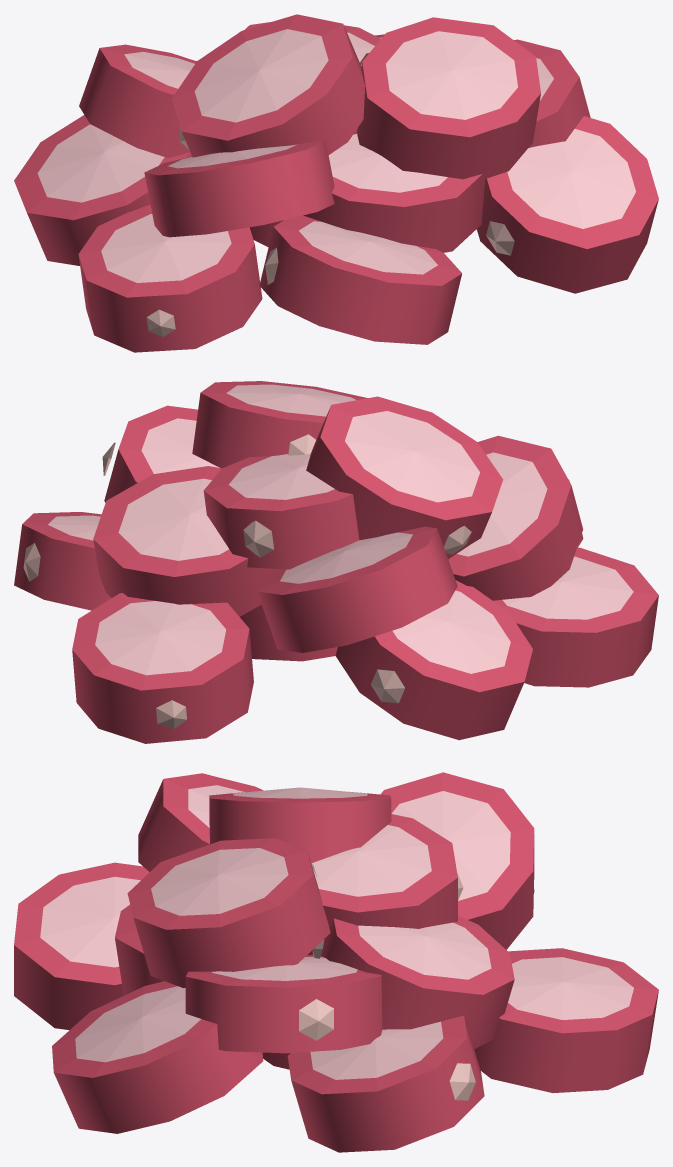
The model's file is octopus_pieces.glb.
3 views of the same model, one above another, from view 1: azimuth 30°, elevation 25°; view 2: azimuth 150°, elevation 25°; view 3: azimuth 270°, elevation 25° (orthographic). The views are drawn at different scales.
Parts seen in each view (by area): view 1: octopus_pieces_a, octopus_pieces_c, octopus_pieces_b; view 2: octopus_pieces_a, octopus_pieces_b, octopus_pieces_c; view 3: octopus_pieces_a, octopus_pieces_b, octopus_pieces_c.
Part boxes in pixels (x1,y1,x2,y2): octopus_pieces_a: (14,61,658,352); octopus_pieces_c: (172,14,540,179); octopus_pieces_b: (79,34,590,252); octopus_pieces_a: (14,479,658,743); octopus_pieces_b: (93,405,583,652); octopus_pieces_c: (192,381,503,569); octopus_pieces_a: (14,862,658,1152); octopus_pieces_b: (115,772,534,1053); octopus_pieces_c: (127,787,463,988).
Size of the model in its own units: 0.279 by 0.1096 by 0.2709.
Materials: 2 (1 with a texture image).
